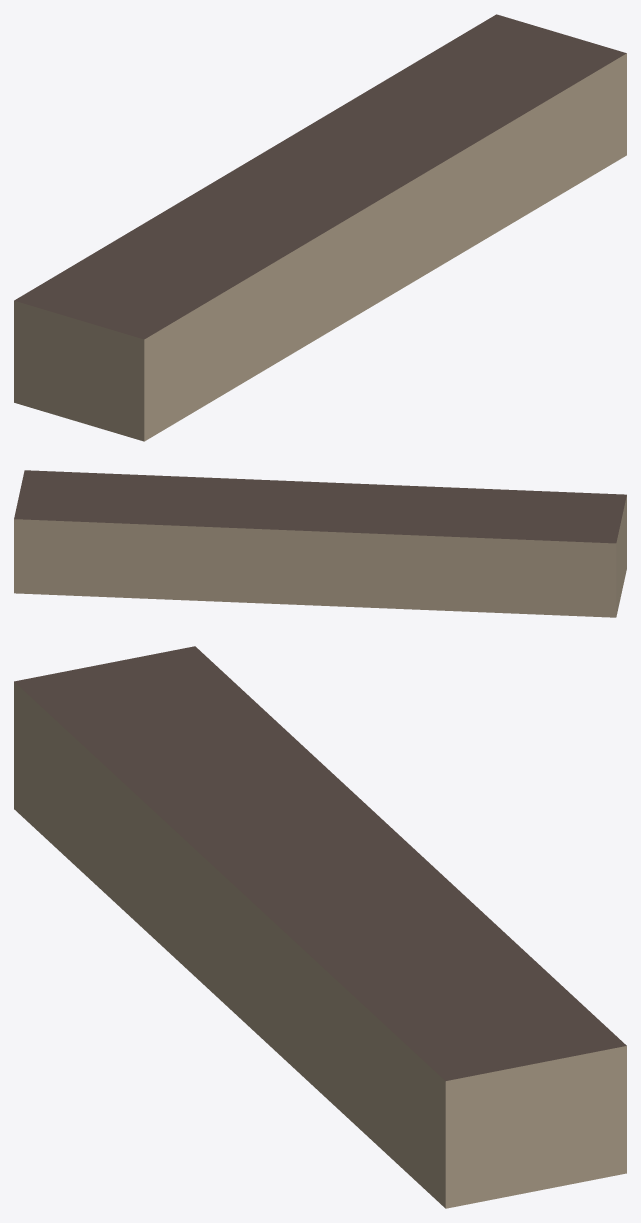
3 renders of one model, top to bottom at view 1: azimuth 30°, elevation 25°; view 2: azimuth 150°, elevation 25°; view 3: azimuth 270°, elevation 25°, orthographic. The views are drawn at different scales.
Visible parts, largest first — view 1: HP-w372180425; view 2: HP-w372180425; view 3: HP-w372180425.
Boxes of the visible parts, x1,y1,x2,y2 form: HP-w372180425: (14, 14, 626, 441); HP-w372180425: (14, 470, 626, 617); HP-w372180425: (14, 646, 626, 1208).
Size of the model in its own units: 65.79 by 9 by 39.18.
